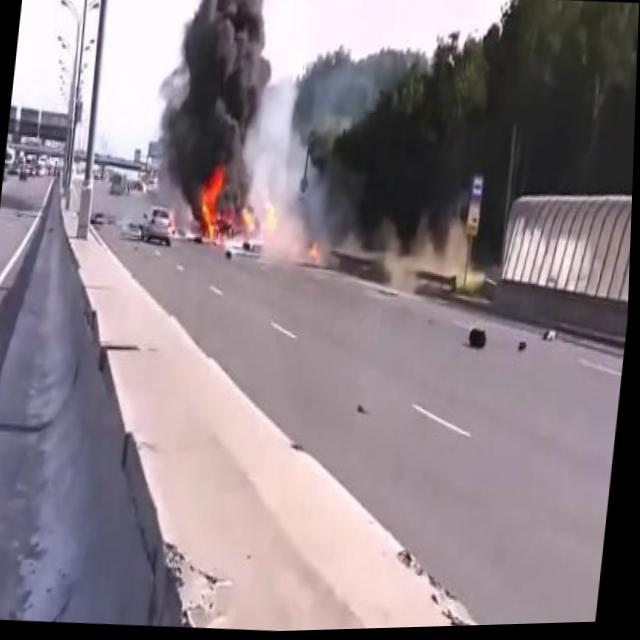fire: (194, 158, 288, 250), (307, 237, 325, 262)
